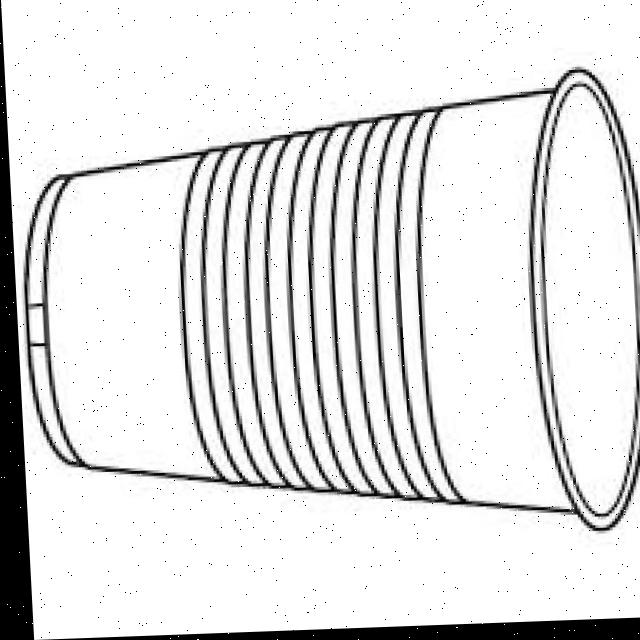cup: (3, 57, 640, 556)
